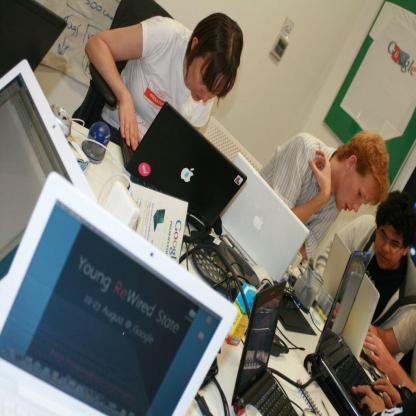board: (0, 172, 239, 416), (1, 58, 99, 288), (119, 103, 247, 232), (223, 153, 310, 285), (317, 250, 381, 416), (232, 282, 300, 416), (319, 234, 379, 370), (0, 0, 68, 82)
